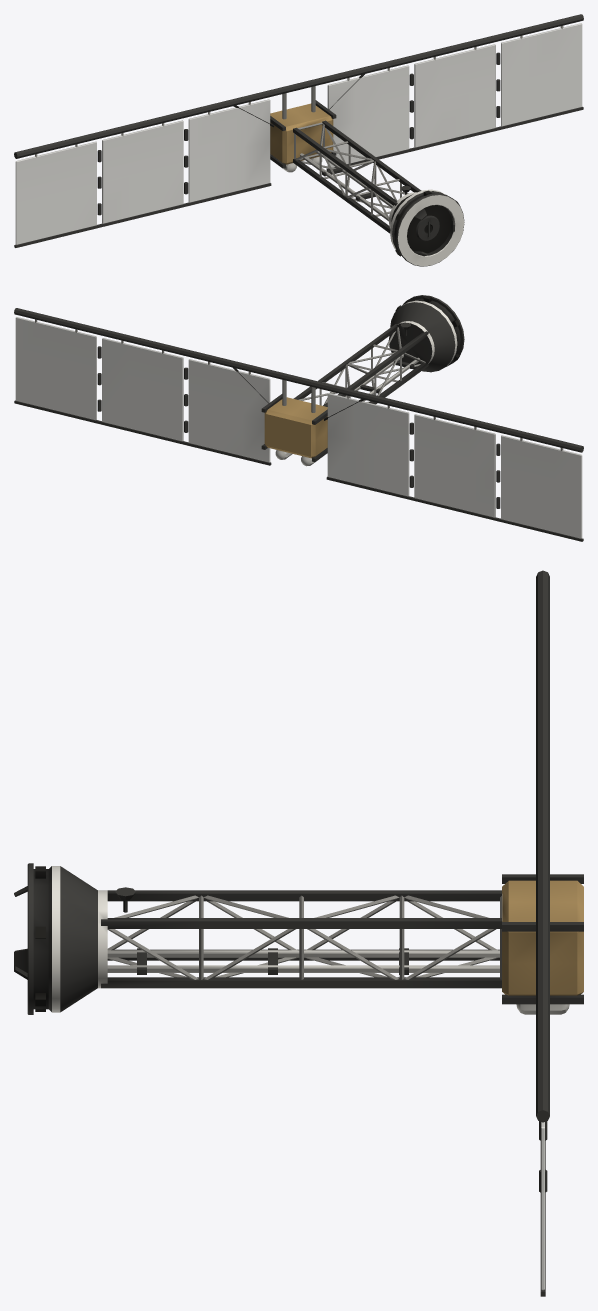
Rendered from radiator.glb.
3 views of the same model, one above another, from view 1: azimuth 30°, elevation 25°; view 2: azimuth 150°, elevation 25°; view 3: azimuth 270°, elevation 25° (orthographic). The views are drawn at different scales.
Parts seen in each view (by area): view 1: body; view 2: body; view 3: body.
Boxes of the visible parts, x1,y1,x2,y2 form: body: [14, 14, 583, 266]; body: [14, 295, 583, 541]; body: [14, 570, 583, 1296].
Size of the model in its own units: 15.64 by 2.5 by 6.97.
